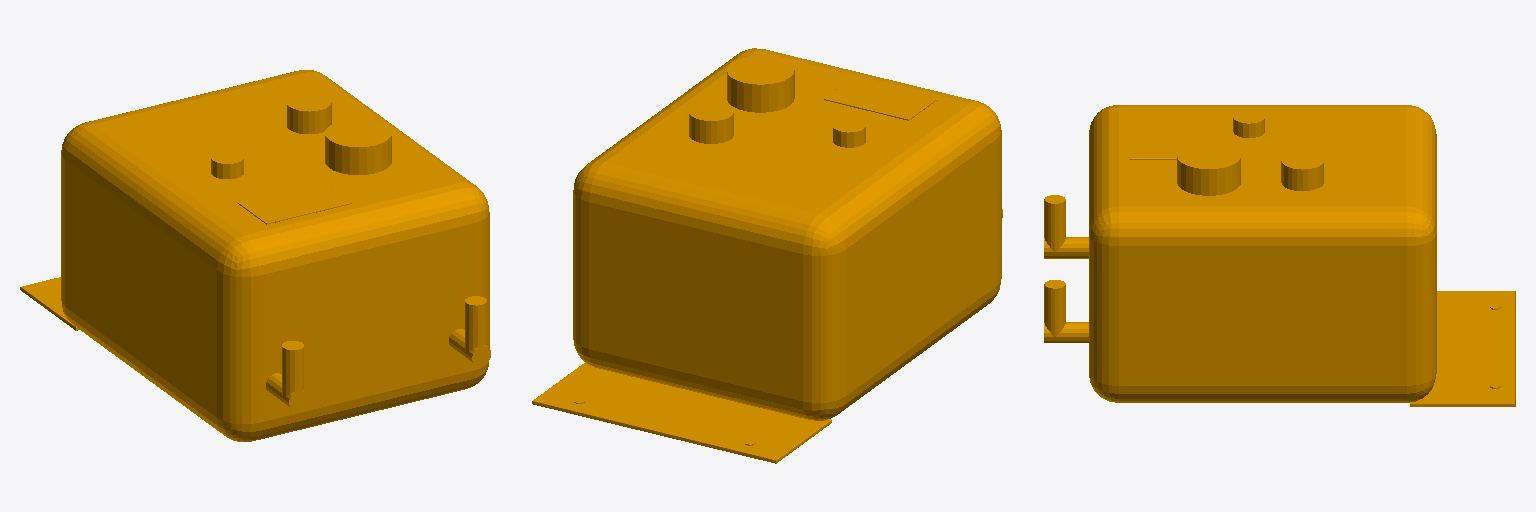
The robot description file, URDF, robot "robotiq_powerpick10_vacuum_unit":
<?xml version="1.0"?>
<robot name="robotiq_powerpick10_vacuum_unit">
<link name="mount"><visual ><geometry ><mesh filename="../meshes/mount.obj"/></geometry></visual><collision ><origin xyz="0 0 0.08" rpy="0 0 0"/><geometry ><box size="0.22 0.26 0.16"/></geometry></collision><collision ><origin xyz="0.045 -0.04 0.171" rpy="0 0 0"/><geometry ><cylinder radius="0.024" length="0.022"/></geometry></collision><collision ><origin xyz="0 0.1595 0.0015" rpy="0 0 0"/><geometry ><box size="0.2 0.059 0.003"/></geometry></collision></link>
<link name="air_out"></link>
<joint name="air_out_joint" type="fixed"><parent link="mount"/><child link="air_out"/><origin xyz="-0.075 -0.163 0.05" rpy="0 0 0"/></joint>
</robot>

--- Facts derived from the render (not from the file) ---
3 views of the same robot in one strip: view 1: azimuth 30°, elevation 25°; view 2: azimuth 150°, elevation 25°; view 3: azimuth 270°, elevation 25° (orthographic).
Robot: robotiq_powerpick10_vacuum_unit — 2 links, 1 joints (1 fixed); root link mount; default pose: every joint at zero.
Visible links, largest first — view 1: mount; view 2: mount; view 3: mount.
Link boxes in pixels (x1=…): mount: x1=20, y1=70, x2=490, y2=441; mount: x1=532, y1=48, x2=1002, y2=463; mount: x1=1044, y1=105, x2=1515, y2=406.
Size in the robot's own frame: 0.22 by 0.352 by 0.182 metres.
1 mesh visuals loaded from 1 distinct referenced files (1 OBJ).
